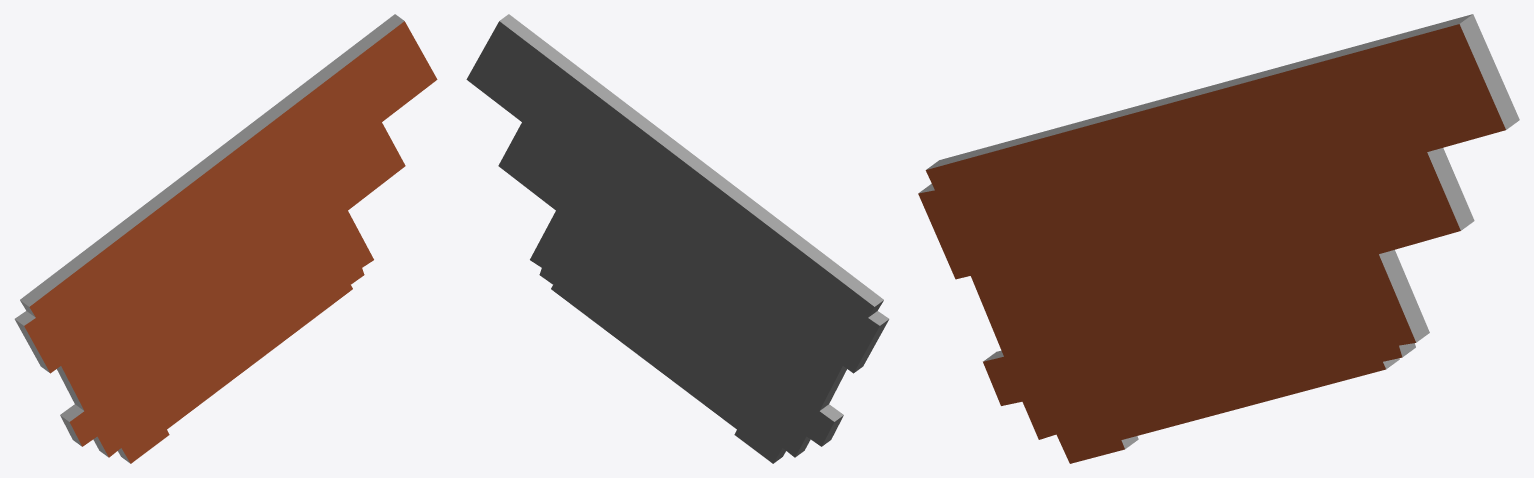
Rendered from construction_0110_assumed_A_Grande_construcao_h6m.obj.
3 views of the same model, side by side, from view 1: azimuth 30°, elevation 25°; view 2: azimuth 150°, elevation 25°; view 3: azimuth 330°, elevation 25° (orthographic). The views are drawn at different scales.
Visible parts, largest first — view 1: construction_0110_assumed_A_Grande_construcao; view 2: construction_0110_assumed_A_Grande_construcao; view 3: construction_0110_assumed_A_Grande_construcao.
Part boxes in pixels (box(x1,y1,x2,y2)): construction_0110_assumed_A_Grande_construcao: box(14, 14, 437, 463); construction_0110_assumed_A_Grande_construcao: box(466, 14, 889, 463); construction_0110_assumed_A_Grande_construcao: box(918, 14, 1519, 463).
Size of the model in its own units: 149 by 129 by 6.
